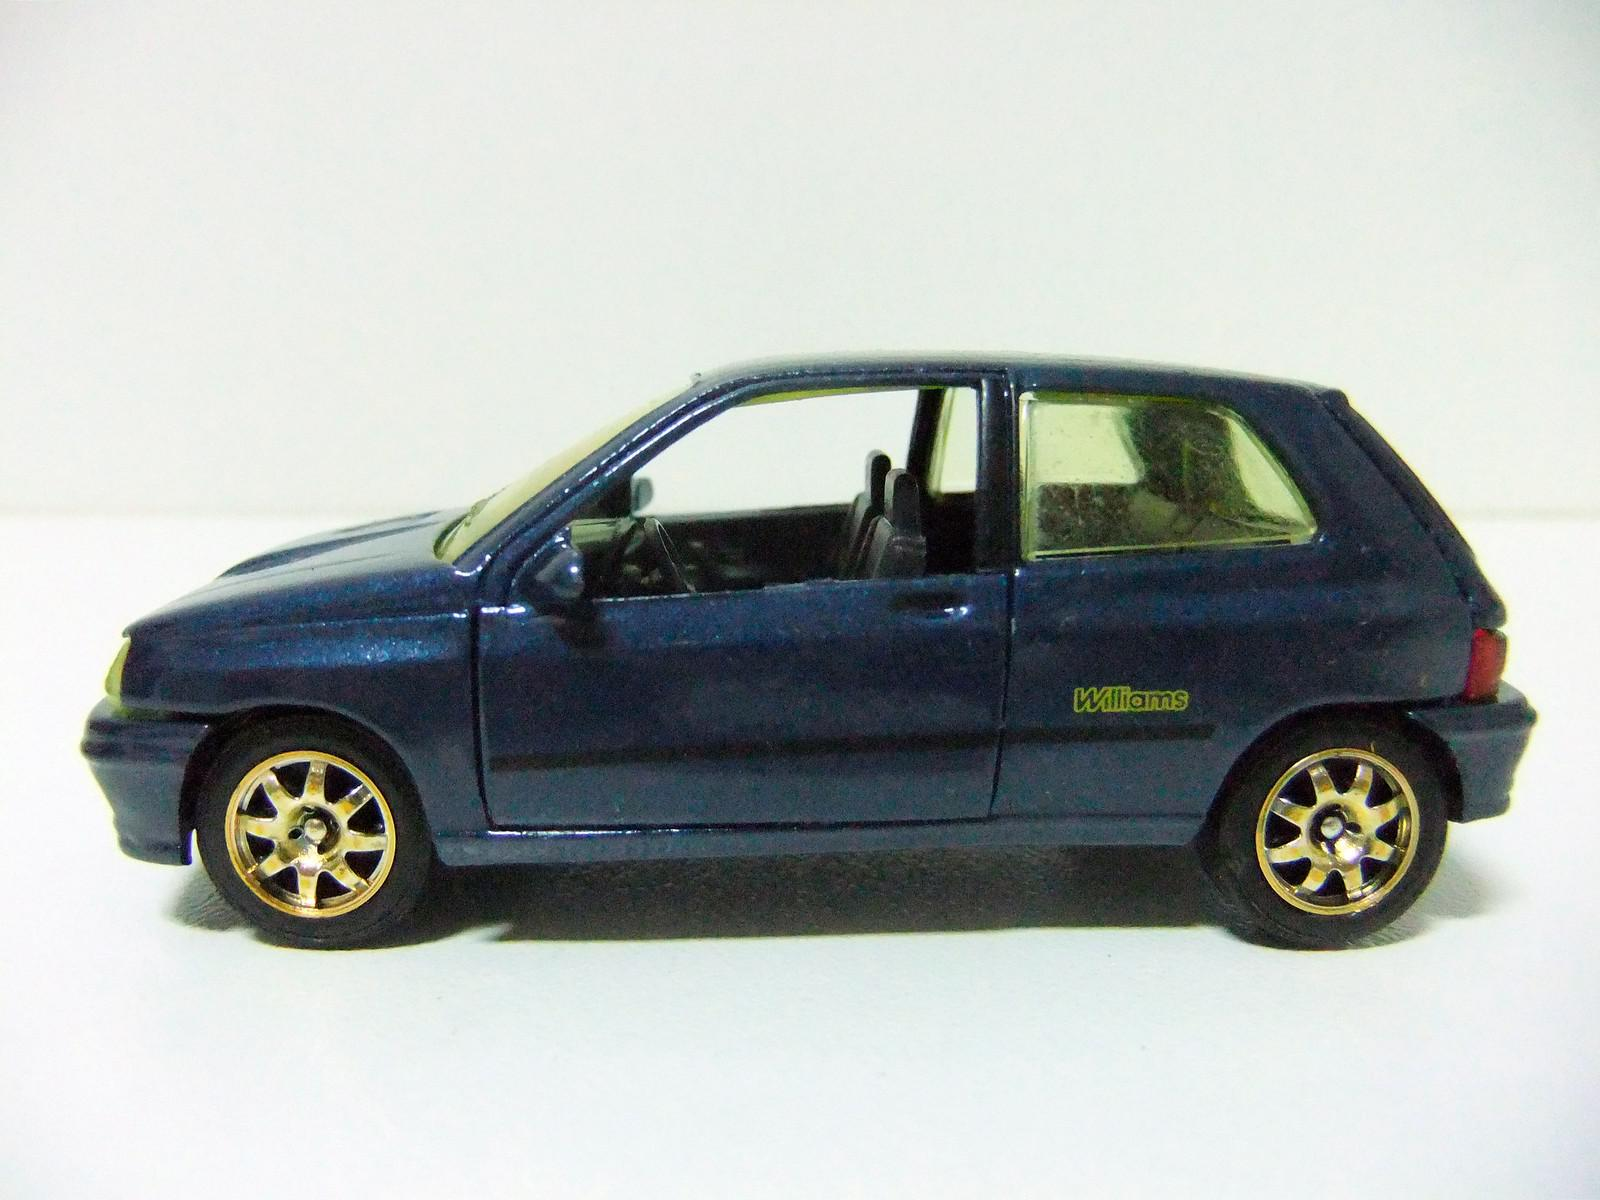doorouter-dent: (601, 389, 997, 724)
